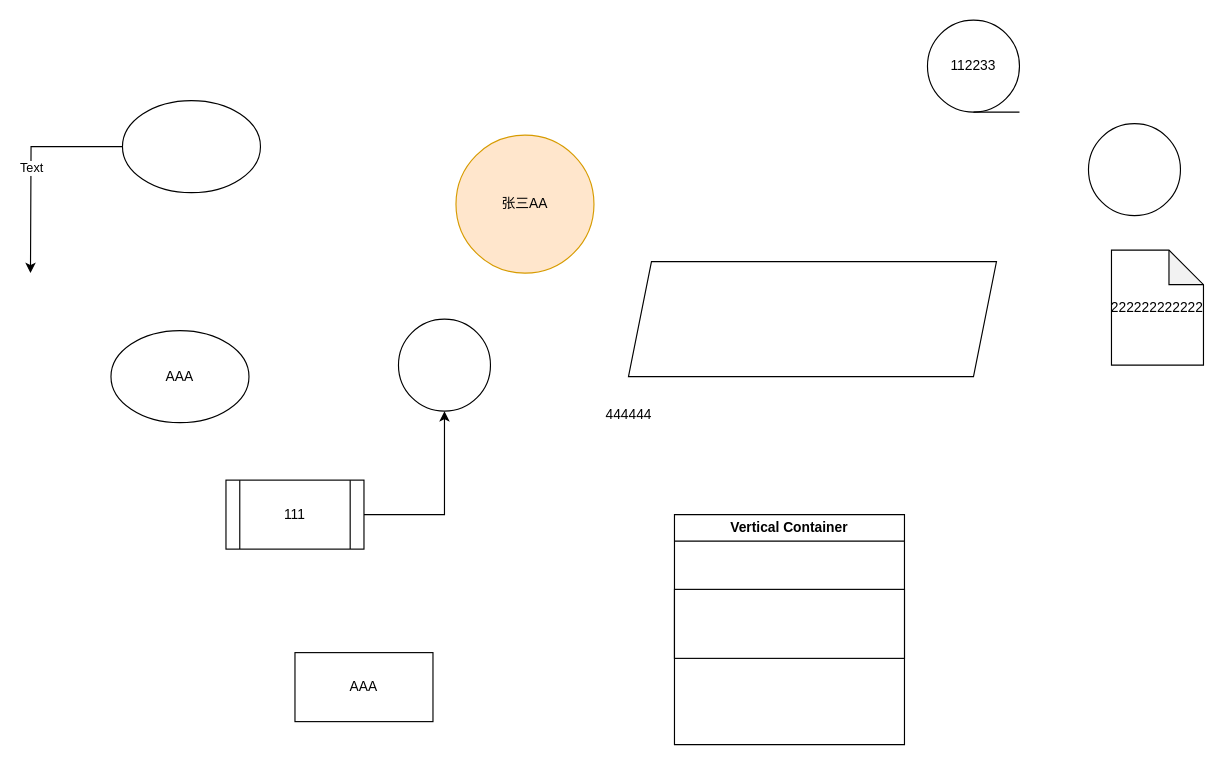
Image size: 1224x765. Some labels were removed from this diagram. Each missing label, with the centre of its shape:
AAAAA: (x=811, y=318)
ZZZZ: (x=190, y=146)
人员Q: (x=1133, y=169)
测试图3333: (x=443, y=364)
